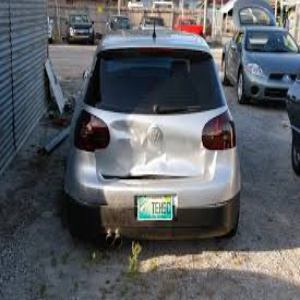bonnet: (113, 115, 200, 176)
